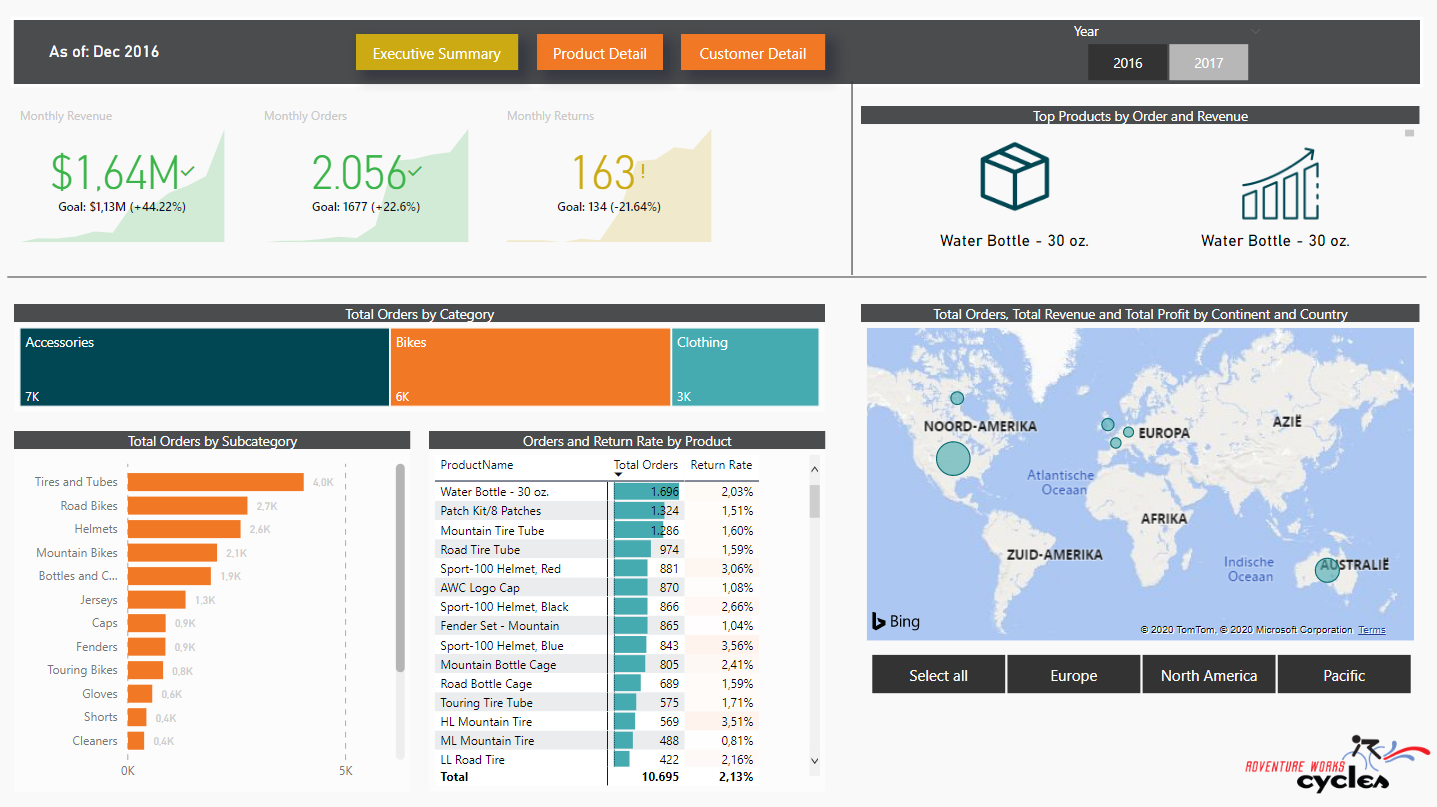

The page's visual inventory and layout, read from the dashboard file:
{"tool":"powerbi","page":{"name":"Executive Summary","canvas":[1280,720],"ordinal":0},"visuals":[{"type":"basicShape","box":[0,16,1280,64],"z":0},{"type":"image","box":[1104,640,176,80],"z":1000},{"type":"barChart","title":"Total Orders by Subcategory","fields":{"Y":["AW_Sales.Total Orders"],"Category":["AW_Product_Subcategory_Lookup.SubcategoryName"]},"box":[16,384,352,320],"z":2000},{"type":"pivotTable","title":"Orders and Return Rate by Product","fields":{"Values":["AW_Sales.Total Orders","AW_Returns.Return Rate"],"Rows":["AW_Product_Category_Lookup.CategoryName","AW_Product_Subcategory_Lookup.SubcategoryName","AW_Product_Lookup.ProductName"]},"box":[384,384,352,320],"z":3000},{"type":"kpi","title":"Monthly Revenue","fields":{"Indicator":["AW_Sales.Total Revenue"],"TrendLine":["AW_Calender_Lookup.Start of Month"],"Goal":["AW_Sales.Prev Month Revenue"]},"box":[16,96,192,126],"z":4000},{"type":"kpi","title":"Monthly Returns","fields":{"TrendLine":["AW_Calender_Lookup.Start of Month"],"Goal":["AW_Returns.Prev Month Returns"],"Indicator":["AW_Returns.Total Returns"]},"box":[448,96,192,126],"z":5000},{"type":"kpi","title":"Monthly Orders","fields":{"TrendLine":["AW_Calender_Lookup.Start of Month"],"Goal":["AW_Sales.Prev Month Orders"],"Indicator":["AW_Sales.Total Orders"]},"box":[232.5,96,192,126],"z":6000},{"type":"card","title":"Top Product (Orders)","fields":{"Values":["Min(AW_Product_Lookup.ProductName)"]},"box":[800,200,208,32],"z":7000},{"type":"card","title":"Top Product (Profit)","fields":{"Values":["Min(AW_Product_Lookup.ProductName)"]},"box":[1088,352,192,32],"z":8000},{"type":"map","fields":{"Category":["AW_Territories_Lookup.Territory Hierarchy.Continent","AW_Territories_Lookup.Territory Hierarchy.Country","AW_Territories_Lookup.Territory Hierarchy.Region"],"Size":["AW_Sales.Total Orders"]},"box":[768,272,496,304],"z":9000},{"type":"slicer","fields":{"Values":["AW_Territories_Lookup.Continent"]},"box":[752,576,528,48],"z":10000},{"type":"slicer","fields":{"Values":["AW_Calender_Lookup.Year"]},"box":[944,16,192,64],"z":11000},{"type":"card","fields":{"Values":["AW_Calender_Lookup.CurrentYear"]},"box":[16,16,160,64],"z":12000},{"type":"basicShape","box":[0,224,1280,48],"z":13000},{"type":"treemap","title":"Total Orders by Category","fields":{"Group":["AW_Product_Category_Lookup.CategoryName","AW_Product_Subcategory_Lookup.SubcategoryName"],"Values":["AW_Sales.Total Orders"]},"box":[16,272,720,96],"z":14000},{"type":"actionButton","box":[480,32,112,32],"z":15000},{"type":"textbox","title":"Top Products by Order and Revenue","box":[768,96,496,32],"z":16000},{"type":"basicShape","box":[736,64,48,192],"z":17000},{"type":"card","title":"Top Product (Orders)","fields":{"Values":["Min(AW_Product_Lookup.ProductName)"]},"box":[1024,192,224,48],"z":18000},{"type":"actionButton","box":[608,32,128,32],"z":19000},{"type":"image","box":[864,112,80,96],"z":20000},{"type":"image","box":[1088,88,96,144],"z":21000},{"type":"actionButton","box":[320,32,144,32],"z":22000}]}

Visuals, with their boxes in screenshot pixels (x1, y1, x2, y2), scaled from the page's 1280x720 canvas onto the 1437x807 screenshot:
basicShape: 0,18,1436,90
image: 1239,717,1436,806
"Total Orders by Subcategory" barChart: 18,430,413,789
"Orders and Return Rate by Product" pivotTable: 431,430,826,789
"Monthly Revenue" kpi: 18,108,234,249
"Monthly Returns" kpi: 503,108,718,249
"Monthly Orders" kpi: 261,108,477,249
"Top Product (Orders)" card: 898,224,1132,260
"Top Product (Profit)" card: 1221,395,1436,430
map - AW_Territories_Lookup.Territory Hierarchy.Continent x AW_Territories_Lookup.Territory Hierarchy.Country: 862,305,1419,646
slicer - AW_Territories_Lookup.Continent: 844,646,1436,699
slicer - AW_Calender_Lookup.Year: 1060,18,1275,90
card - AW_Calender_Lookup.CurrentYear: 18,18,198,90
basicShape: 0,251,1436,305
"Total Orders by Category" treemap: 18,305,826,412
actionButton: 539,36,665,72
"Top Products by Order and Revenue" textbox: 862,108,1419,143
basicShape: 826,72,880,287
"Top Product (Orders)" card: 1150,215,1401,269
actionButton: 683,36,826,72
image: 970,126,1060,233
image: 1221,99,1329,260
actionButton: 359,36,521,72
